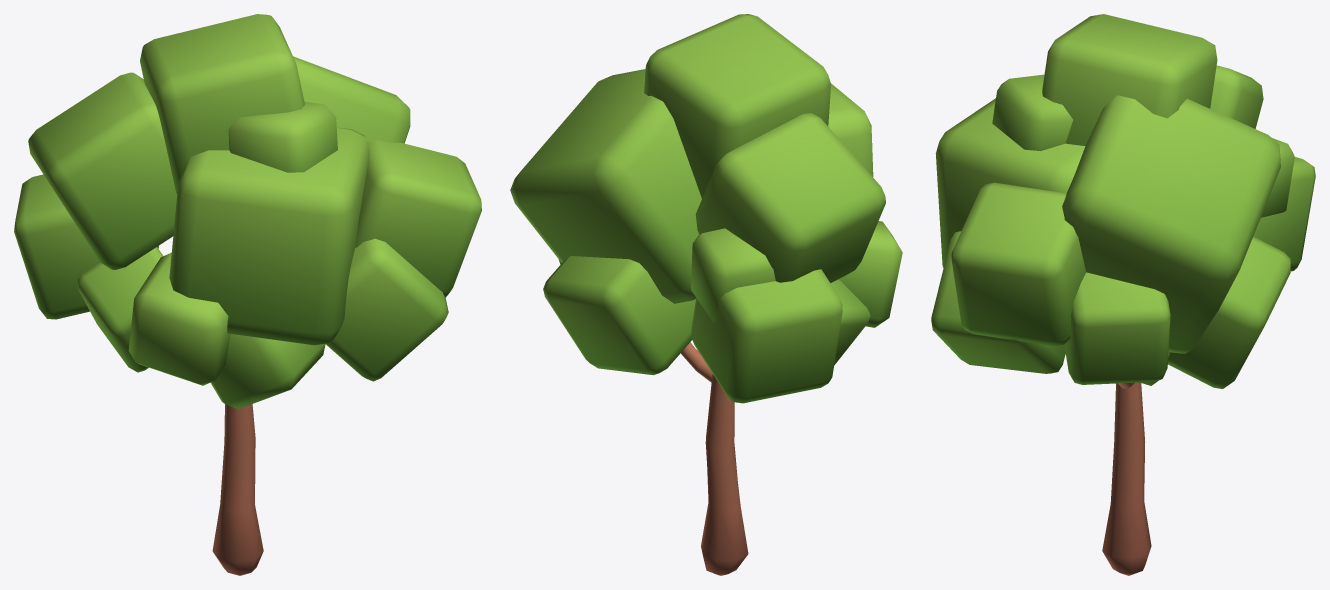
The model's file is Tree_2_E_Color3.fbx.
The picture shows the model from 3 angles, left to right: view 1: azimuth 30°, elevation 25°; view 2: azimuth 150°, elevation 25°; view 3: azimuth 270°, elevation 25°; orthographic projection.
Parts seen in each view (by area): view 1: Tree_2_E_Color3; view 2: Tree_2_E_Color3; view 3: Tree_2_E_Color3.
Boxes of the visible parts, x1,y1,x2,y2 form: Tree_2_E_Color3: (14, 14, 481, 575); Tree_2_E_Color3: (510, 14, 902, 575); Tree_2_E_Color3: (931, 14, 1315, 575).
Size of the model in its own units: 6.05 by 8.79 by 5.68.
